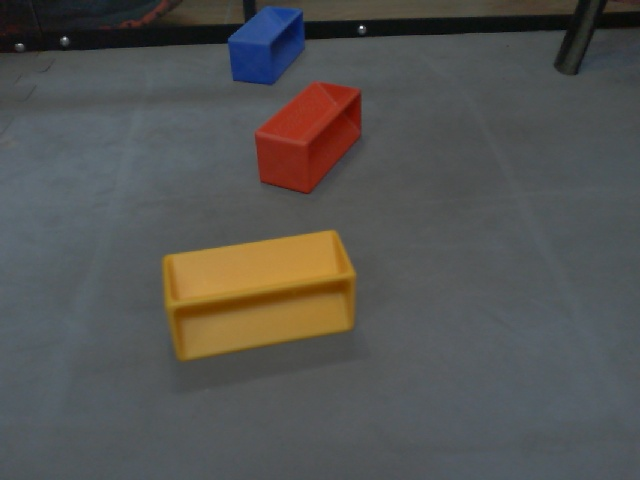BlueSample: (228, 5, 310, 86)
RedSample: (252, 81, 363, 197)
YellowSample: (159, 227, 358, 364)
